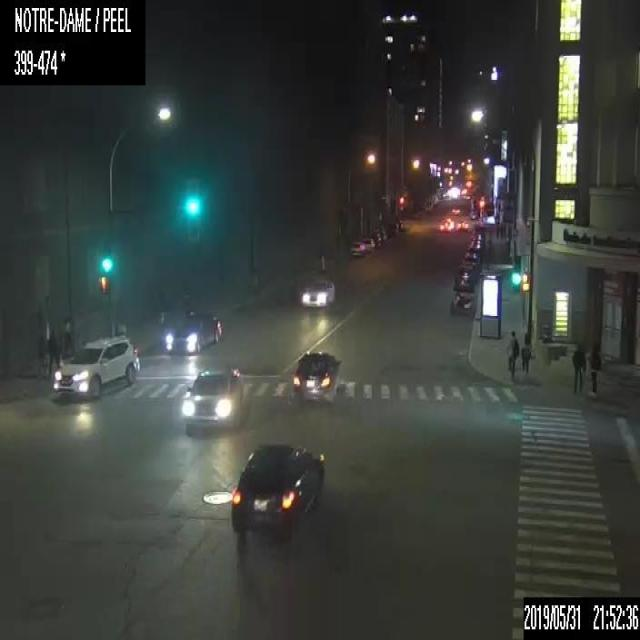construction: (318, 254, 325, 274)
pedestrian: (572, 340, 601, 396), (46, 327, 58, 372), (507, 328, 518, 377), (61, 316, 73, 359), (520, 332, 529, 373)
vehicle: (229, 440, 325, 533), (51, 335, 141, 397), (183, 360, 241, 432), (289, 348, 340, 403), (164, 308, 222, 353), (300, 276, 334, 308), (449, 290, 476, 314), (460, 252, 480, 276), (452, 270, 473, 291), (467, 240, 482, 256), (349, 241, 366, 255), (360, 236, 374, 250), (439, 218, 452, 232), (369, 232, 381, 246), (470, 232, 484, 243), (456, 219, 468, 231), (451, 205, 460, 215)
